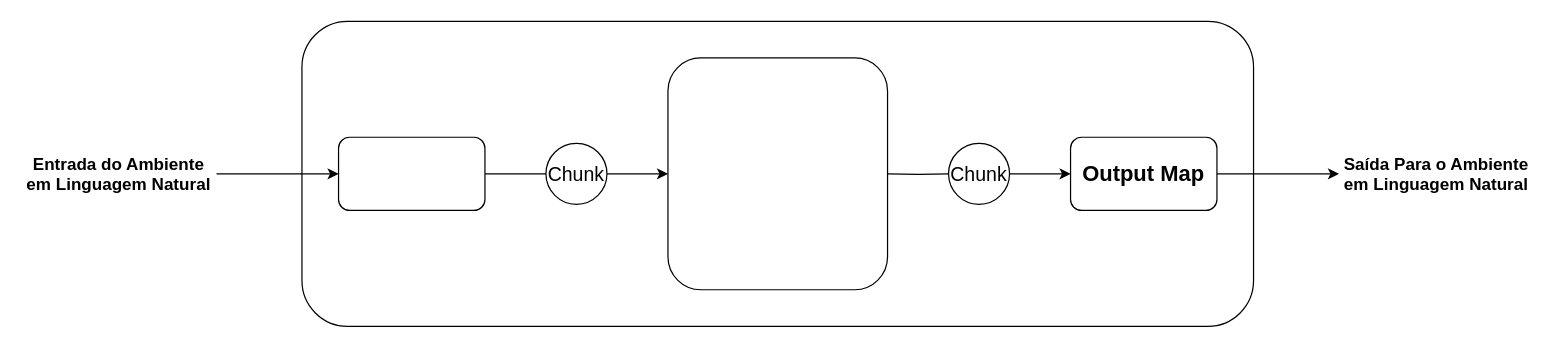
The diagram is 1554 pixels wide and 348 high, and some of its shapes have lost their labels. Here are the shapes that lost their labels. From the top down, the box of each, then its label:
(337, 136, 485, 210): Input Map
(667, 57, 888, 290): Processamento de Informações
